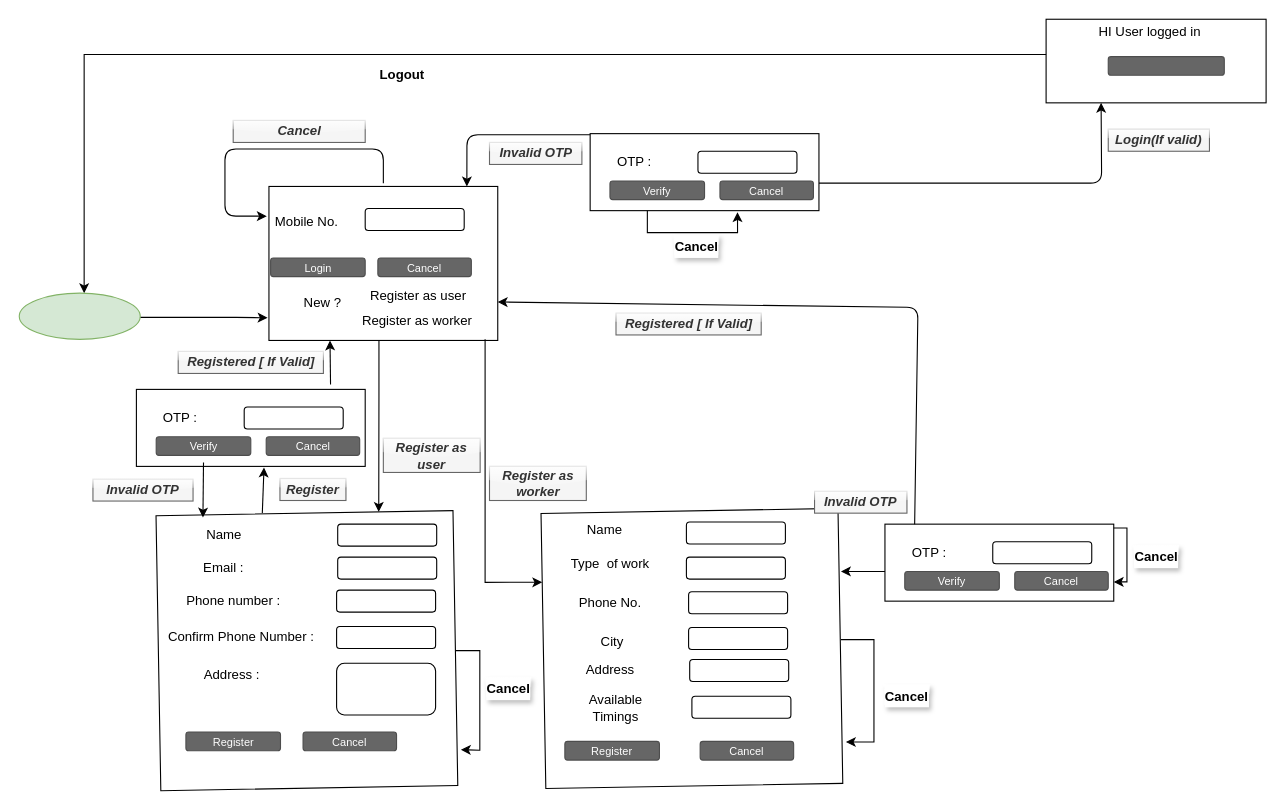
Some shapes in this 1286 by 811 pixel diagram are drawn without their labels. The centre of each missing label's shape, as x and y in pixels:
"Log out" belongs at (x=1165, y=65).
"Start" belongs at (x=79, y=315).
